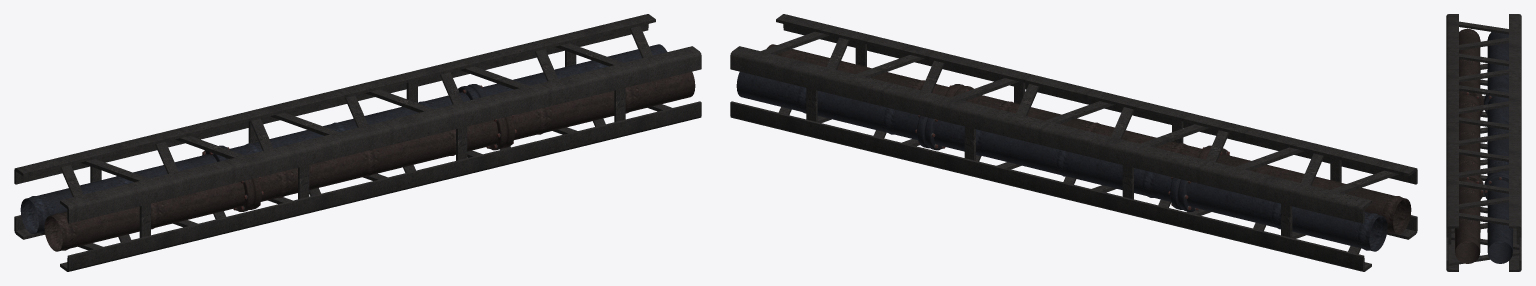
Rendered from beam_7.obj.
3 renders of one model, left to right at view 1: azimuth 30°, elevation 25°; view 2: azimuth 150°, elevation 25°; view 3: azimuth 270°, elevation 25°, orthographic. The views are drawn at different scales.
Visible parts, largest first — view 1: beam_7; view 2: beam_7; view 3: beam_7.
Part boxes in pixels (x1=…): beam_7: x1=14, y1=14, x2=701, y2=271; beam_7: x1=730, y1=14, x2=1417, y2=271; beam_7: x1=1446, y1=14, x2=1521, y2=271.
Size of the model in its own units: 4 by 0.4 by 0.6.
